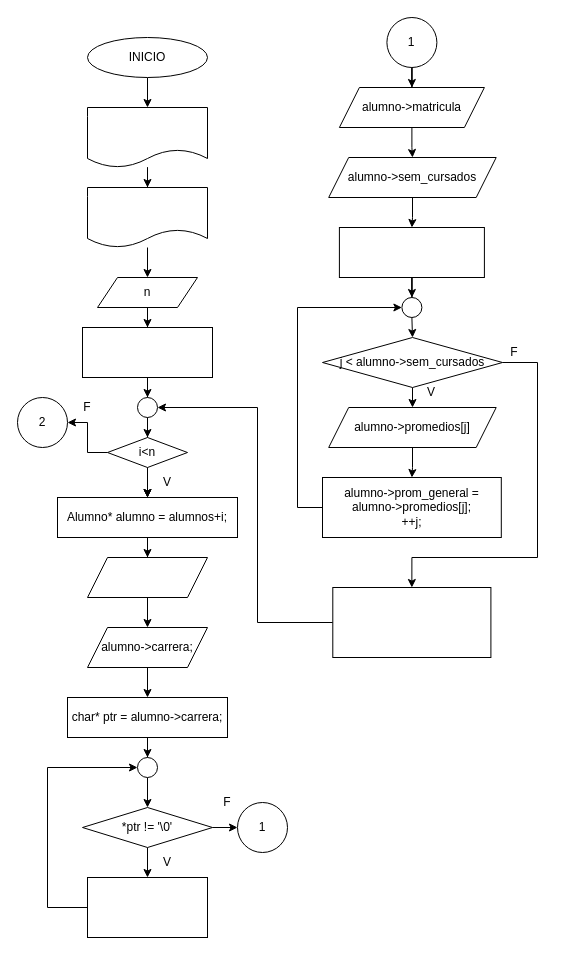
The diagram is 563 pixels wide and 955 high, and some of its shapes have lost their labels. Each missing label, with the box of its shape:
"Introduzca la cantidad de almnos a procesar": (86, 186, 208, 248)
"Sistema de datos FCMF": (86, 106, 208, 168)
*ptr=toupper(*ptr); ++ptr;: (86, 876, 208, 938)
Alumno alumnos[n]; size_t i = 0: (82, 326, 212, 378)
alumno->nombre;: (86, 556, 208, 598)
alumno->prom_general /= alumno->sem_cursados; ++i;: (332, 586, 491, 658)
alumno->prom_general=0; size_t j = 0;: (338, 226, 484, 278)
